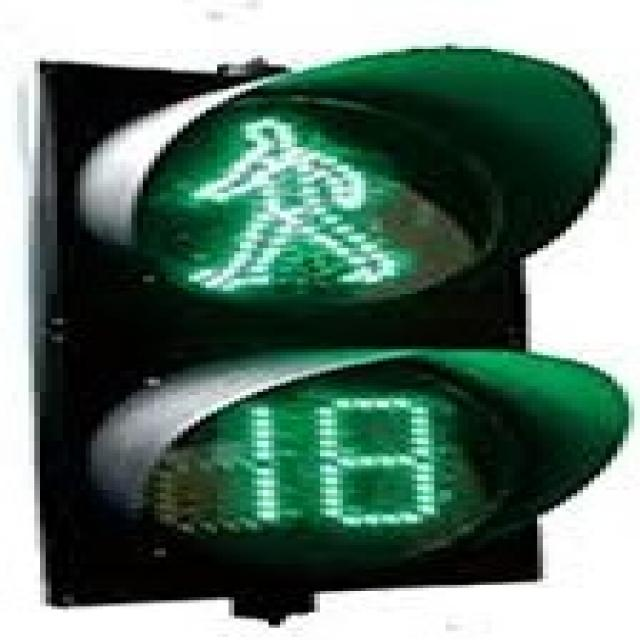Go: (80, 78, 596, 588), (122, 104, 499, 344)
